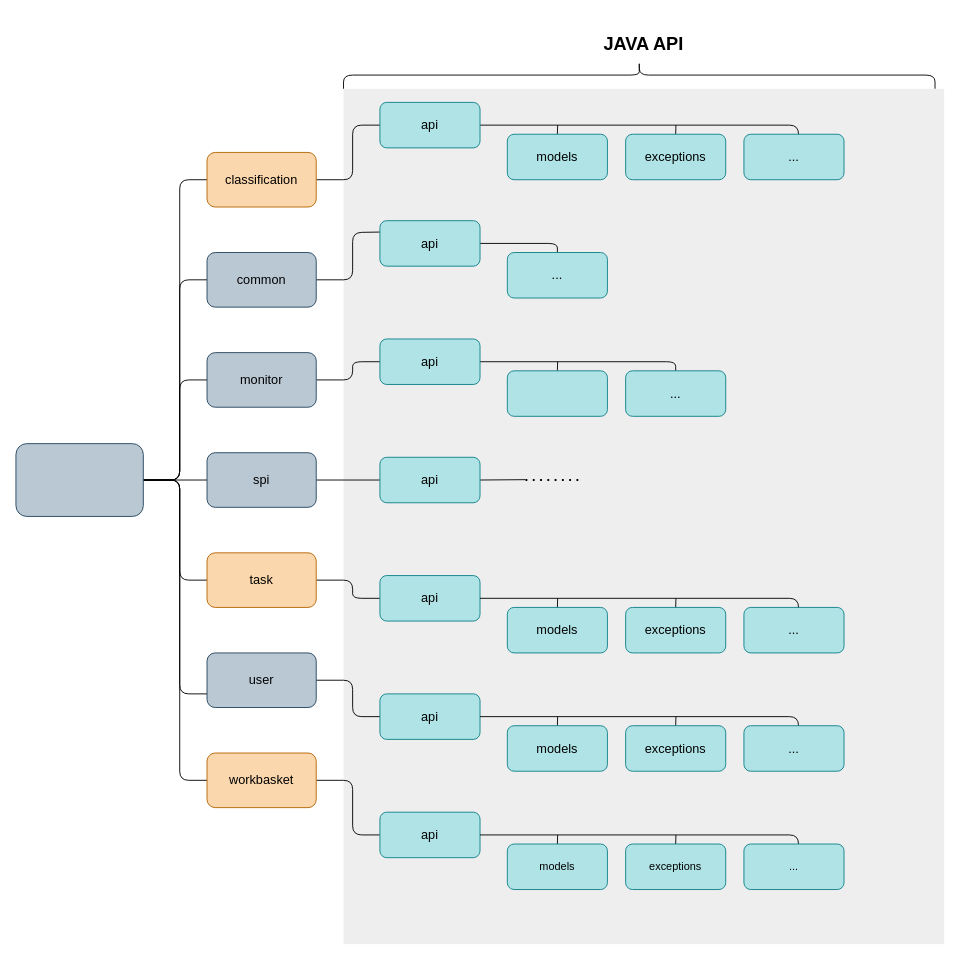
This 960x959 diagram has some shape labels left out. The box of each missing label's shape, as (x1, y1, x2, y2) in pixels:
kadai-core: (15, 443, 143, 516)
reports: (506, 370, 607, 416)
